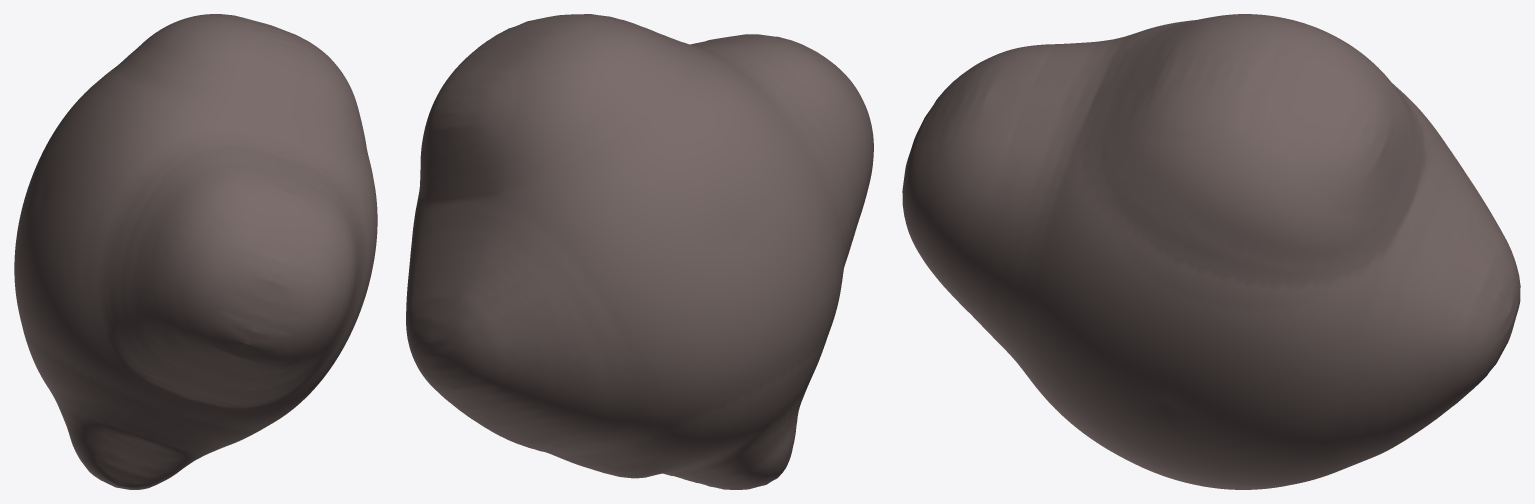
The model's file is Meteor1.fbx.
The picture shows the model from 3 angles, left to right: view 1: azimuth 30°, elevation 25°; view 2: azimuth 150°, elevation 25°; view 3: azimuth 270°, elevation 25°; orthographic projection. The views are drawn at different scales.
Visible parts, largest first — view 1: root; view 2: root; view 3: root.
Boxes of the visible parts, <box> form: root: <box>14,14,377,489</box>; root: <box>406,14,873,489</box>; root: <box>902,14,1520,489</box>.
Size of the model in its own units: 0.1999 by 0.245 by 0.2729.
Materials: 1 (1 with a texture image).
